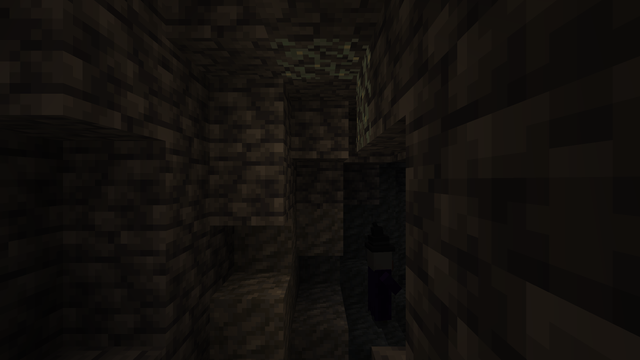sorcieres: (365, 243, 394, 329)
